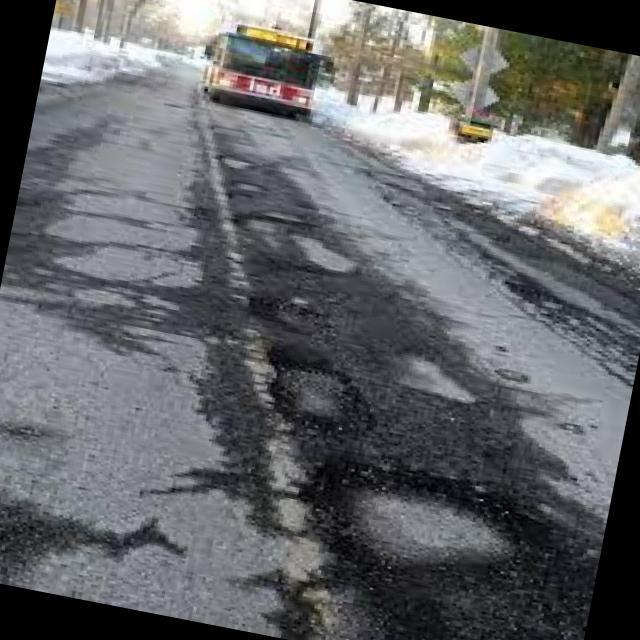Pothole: (274, 369, 505, 566)
